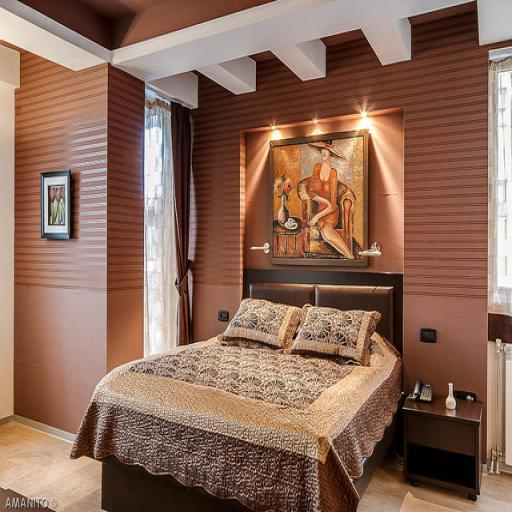bed: (104, 241, 403, 512)
